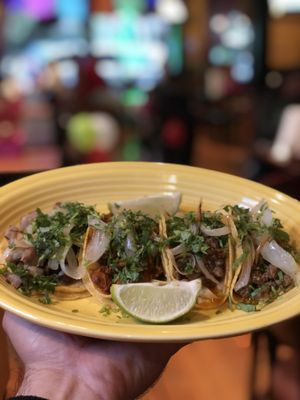curry: (23, 201, 107, 273), (106, 208, 158, 284)
